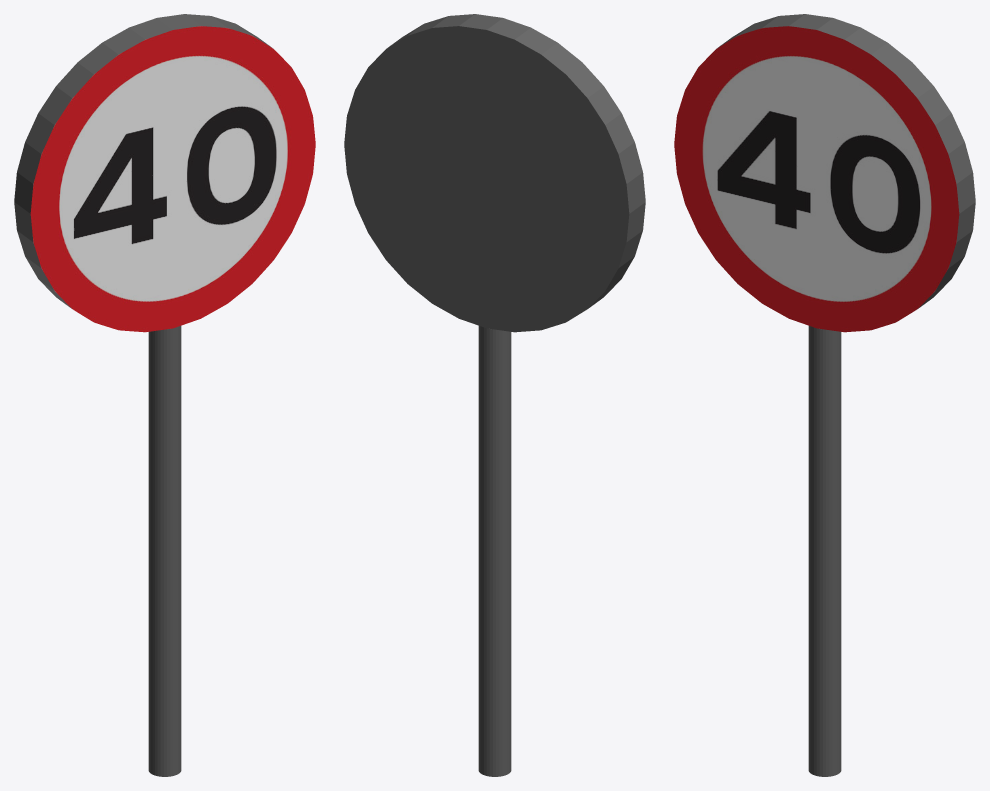
File: SignGivingOrderMaximumSpeed.obj
The picture shows the model from 3 angles, left to right: view 1: azimuth 30°, elevation 25°; view 2: azimuth 150°, elevation 25°; view 3: azimuth 330°, elevation 25°; orthographic projection.
Visible parts, largest first — view 1: Cylinder, Cylinder.001; view 2: Cylinder, Cylinder.001; view 3: Cylinder, Cylinder.001.
Part boxes in pixels (x1,y1,x2,y2): Cylinder: [14, 14, 315, 332]; Cylinder.001: [148, 326, 181, 776]; Cylinder: [344, 14, 645, 332]; Cylinder.001: [478, 326, 511, 776]; Cylinder: [674, 14, 975, 332]; Cylinder.001: [808, 326, 841, 776].
Size of the model in its own units: 1 by 2.5 by 0.1.
Materials: 3 (1 with a texture image).
